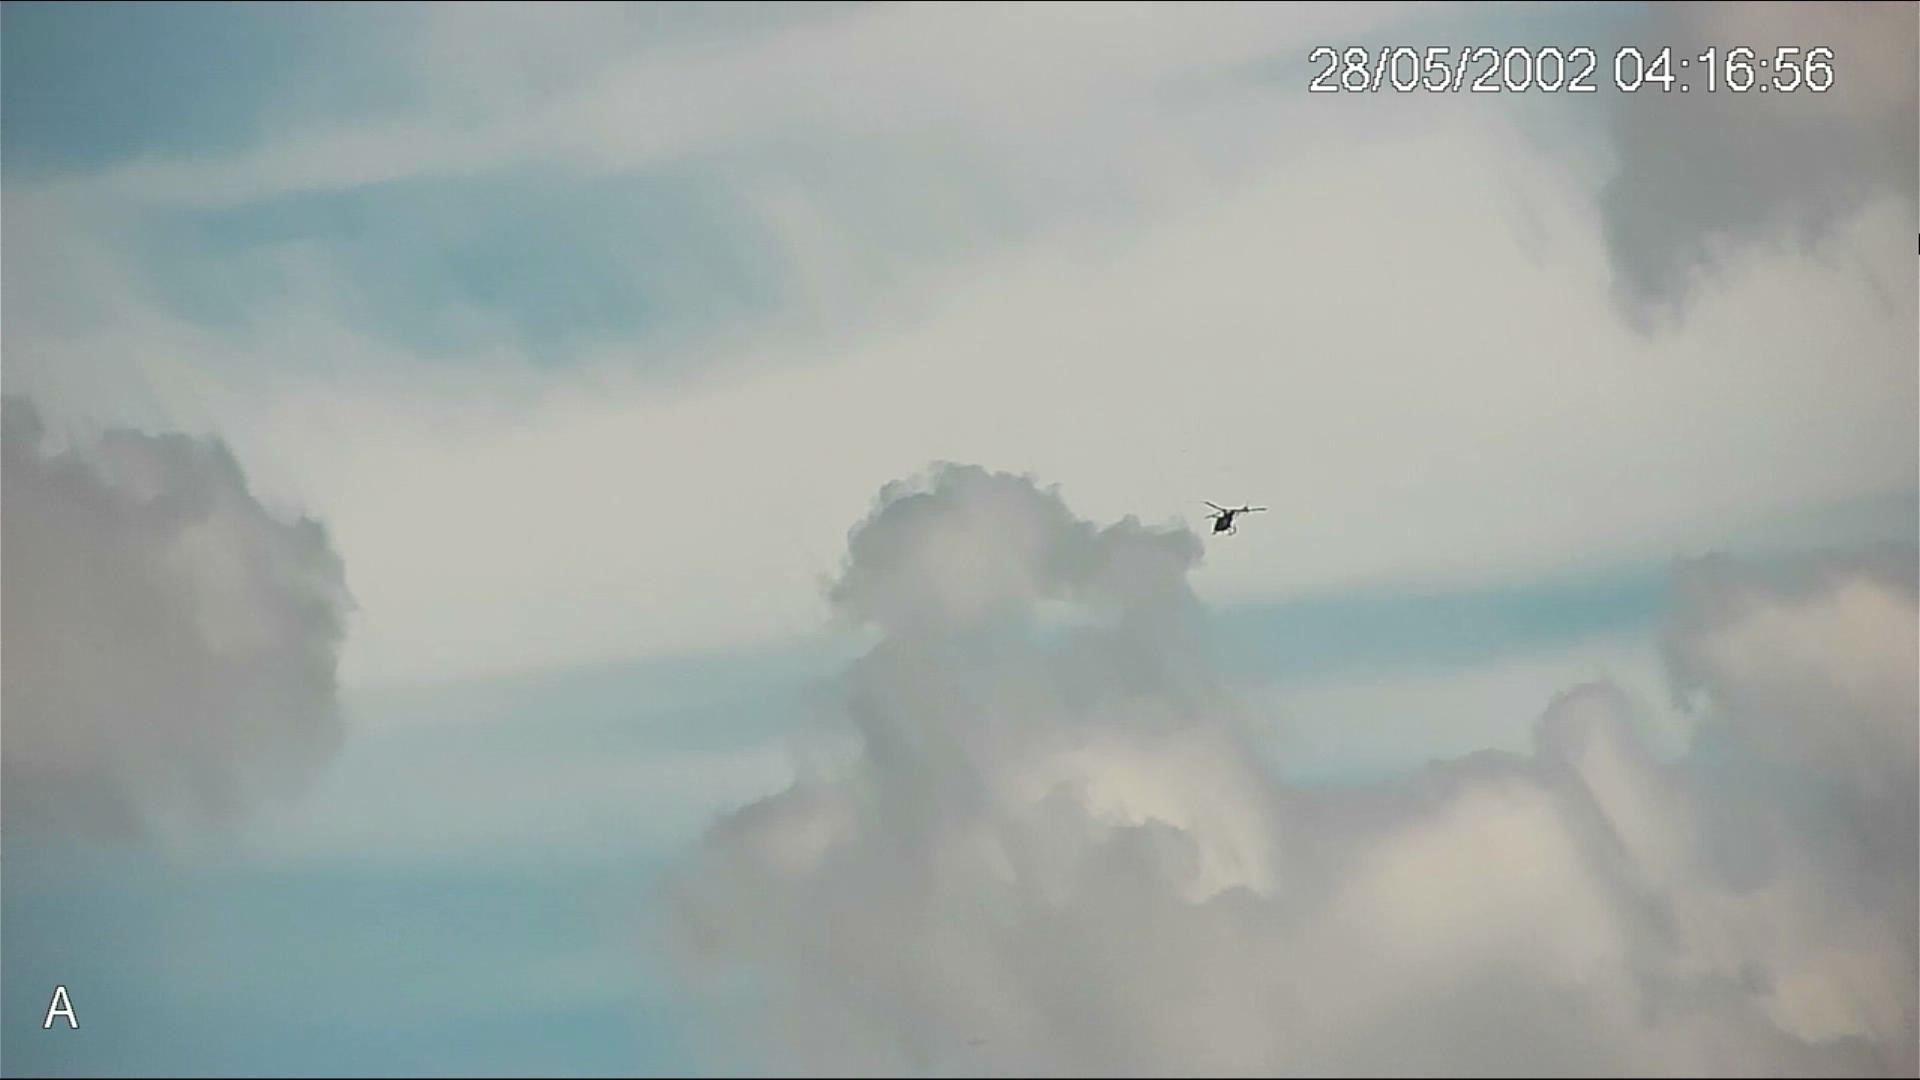SU_30: (1203, 501, 1249, 537)
